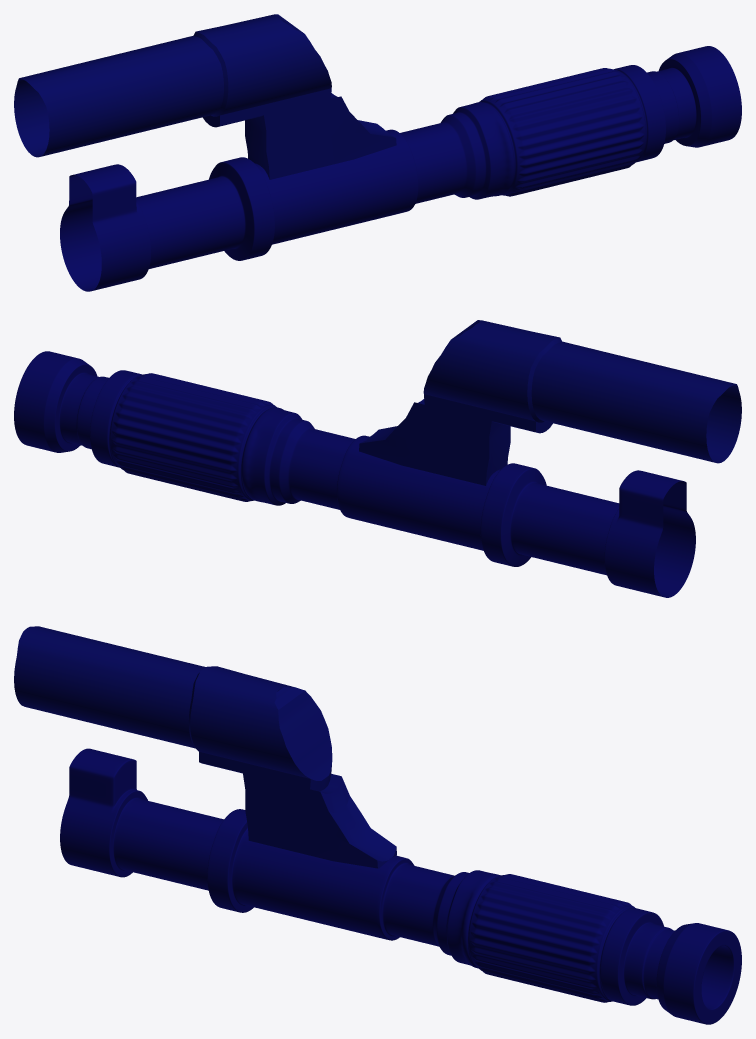
The model's file is barrel_02.fbx.
The picture shows the model from 3 angles, top to bottom: view 1: azimuth 30°, elevation 25°; view 2: azimuth 150°, elevation 25°; view 3: azimuth 330°, elevation 25°; orthographic projection.
Visible parts, largest first — view 1: Plane.223; view 2: Plane.223; view 3: Plane.223.
Boxes of the visible parts, <box> form: Plane.223: <box>14,14,741,291</box>; Plane.223: <box>14,320,741,597</box>; Plane.223: <box>14,626,741,1024</box>.
Size of the model in its own units: 45.06 by 14.33 by 5.85.
